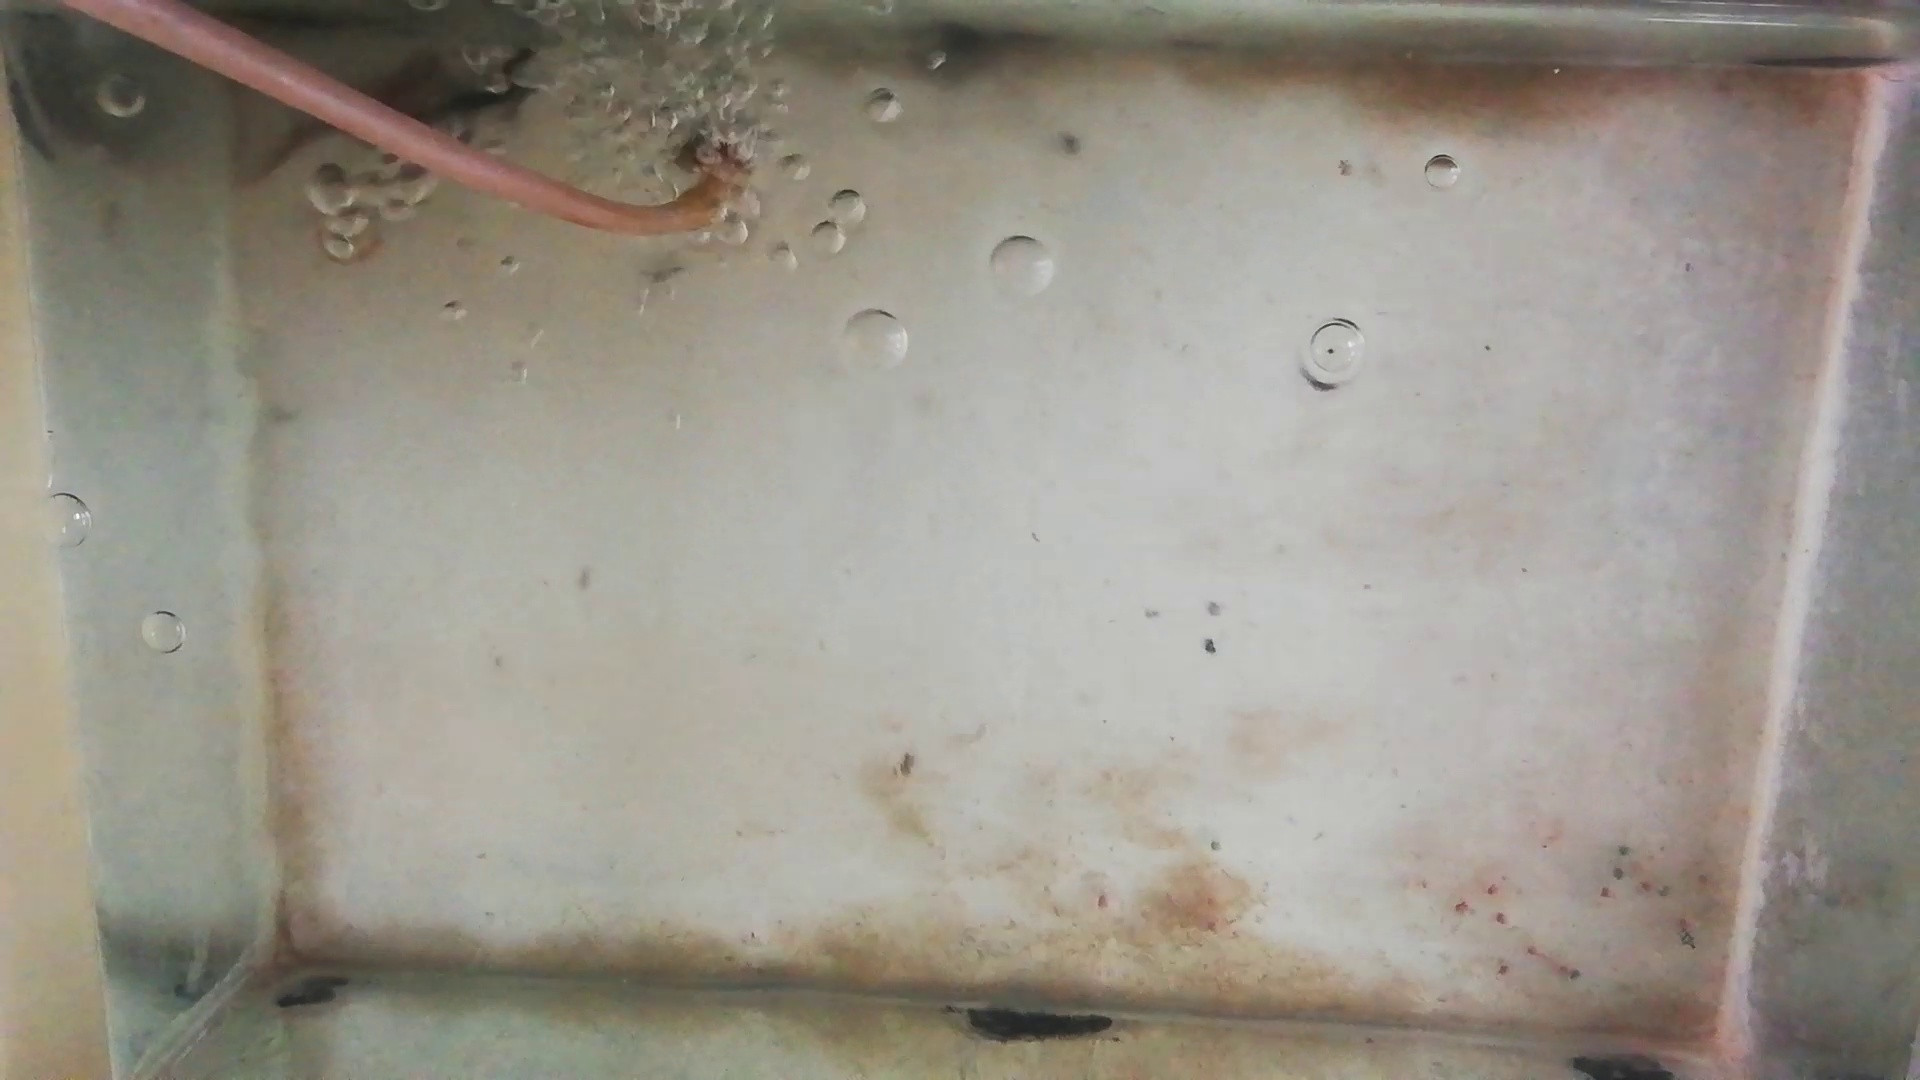fish: (405, 70, 556, 135)
